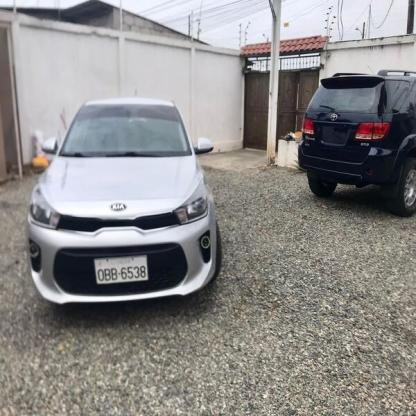Placa: (93, 257, 148, 285)
